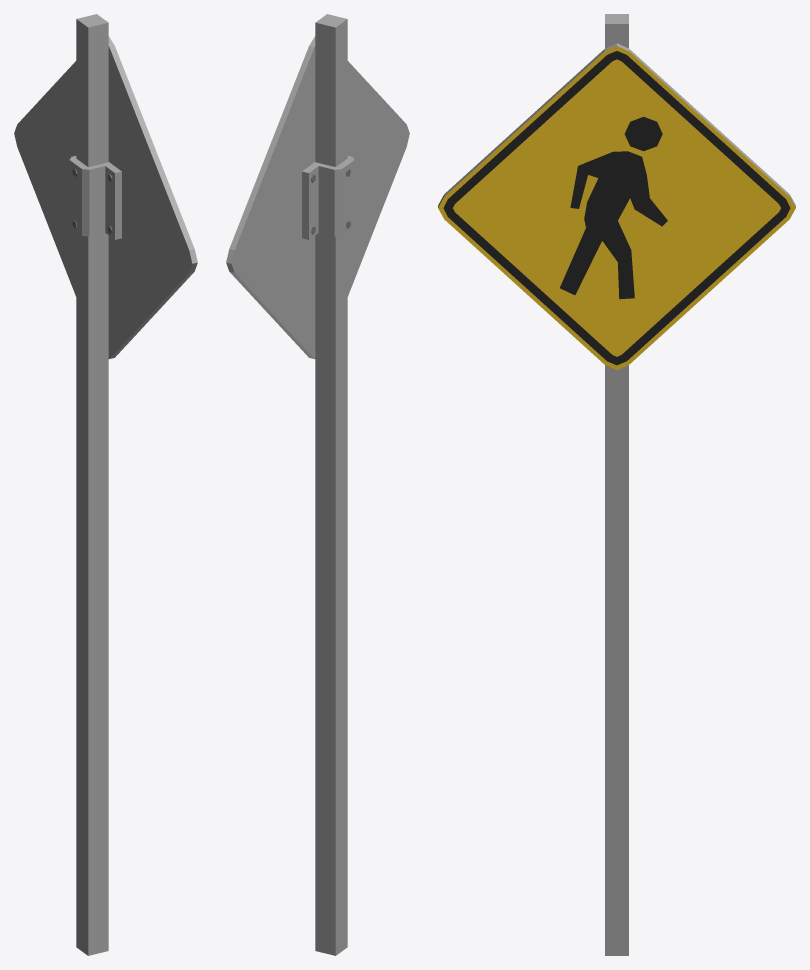
File: SM_road_sign_5.gltf
3 renders of one model, left to right at view 1: azimuth 30°, elevation 25°; view 2: azimuth 150°, elevation 25°; view 3: azimuth 270°, elevation 25°, orthographic.
Parts seen in each view (by area): view 1: SM_road_sign_5; view 2: SM_road_sign_5; view 3: SM_road_sign_5.
Boxes of the visible parts, x1=… form: SM_road_sign_5: x1=14, y1=14, x2=197, y2=955; SM_road_sign_5: x1=226, y1=14, x2=409, y2=955; SM_road_sign_5: x1=438, y1=14, x2=795, y2=955.
Bounding box in the file's own units: 0.0793 × 2.05 × 0.7124.
Materials: 1 (1 with a texture image).
